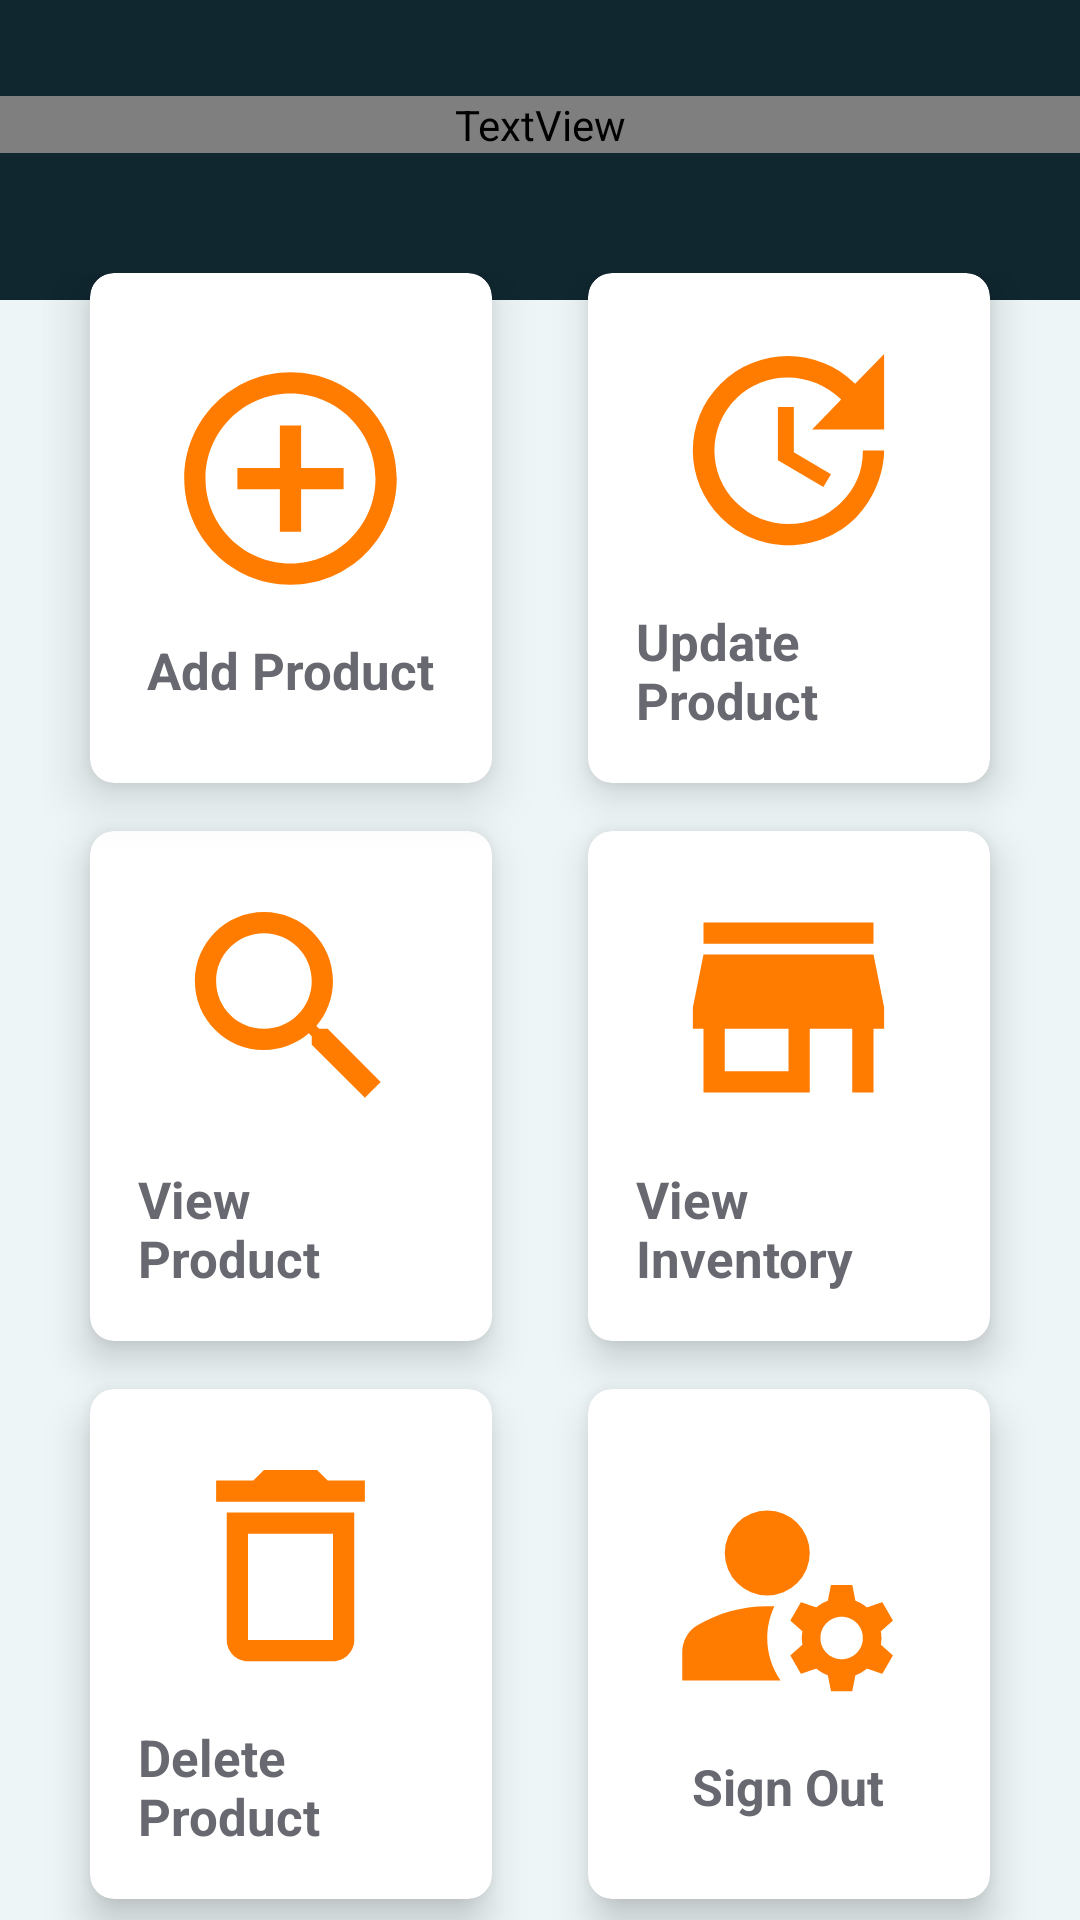

Named icons in this screenshot (1080px×1920px) and their bounding boxes, {"x1": x1, "y1": y1, "x2": x2, "y2": y2}:
manage accounts: {"x1": 682, "y1": 1510, "x2": 893, "y2": 1692}
search product: {"x1": 194, "y1": 912, "x2": 381, "y2": 1098}
